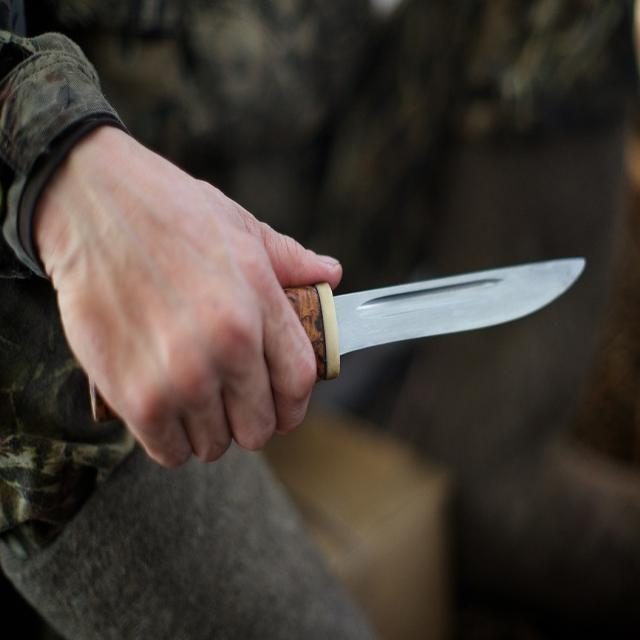knife: (300, 255, 592, 385)
